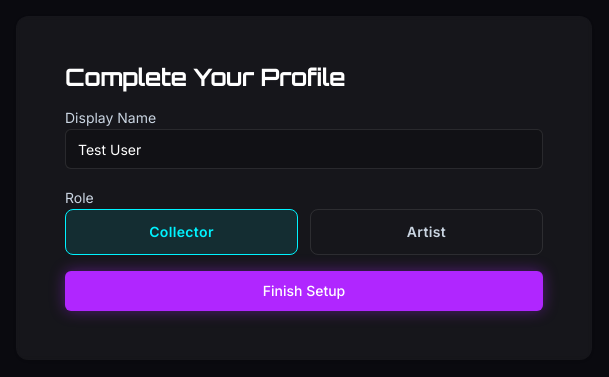
Test: OnboardingPage in Normal Mode › should disable button while saving
Expected: the field with placeholder "Your name" holds "Test User", [65,129,543,169]
Click the button "Finish Setup" at (304, 291), box [65,271,543,311]
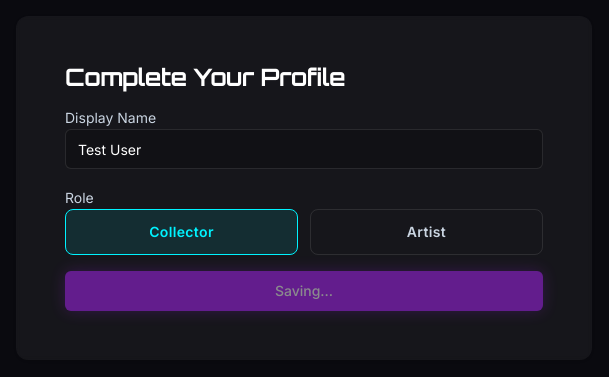
Now the button "Saving..." is disabled, box [65,271,543,311]
